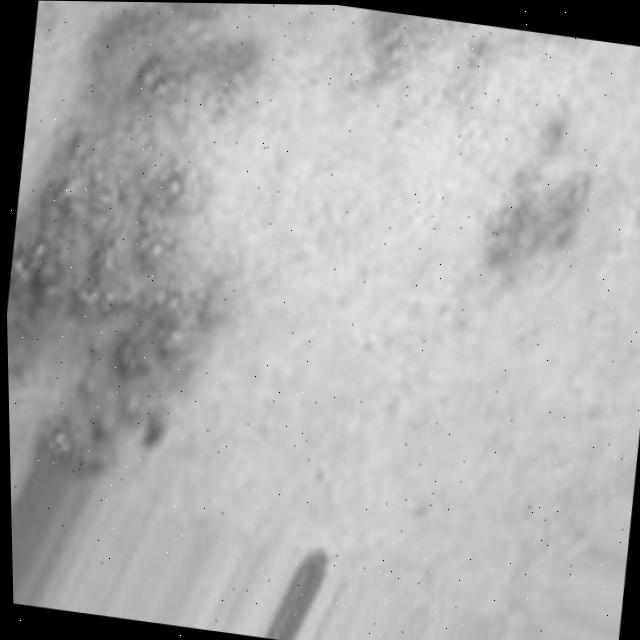Shingles: (0, 0, 314, 504), (326, 7, 614, 278)
